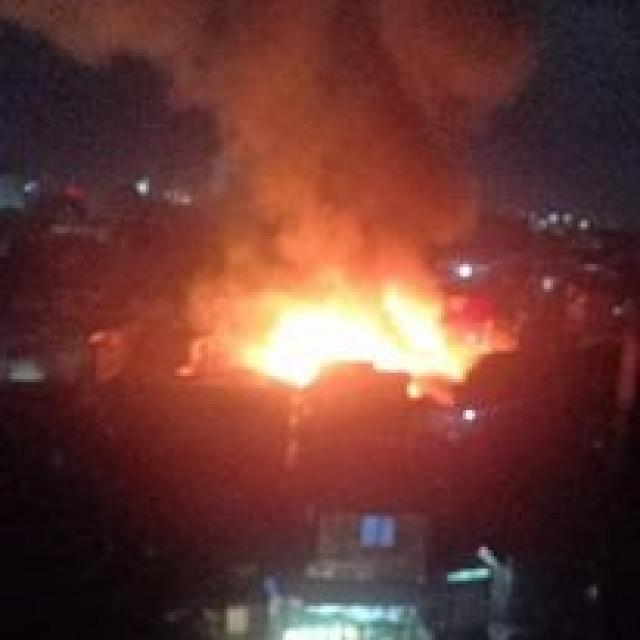Fire: (242, 265, 467, 405)
Smoke: (180, 8, 510, 260)
